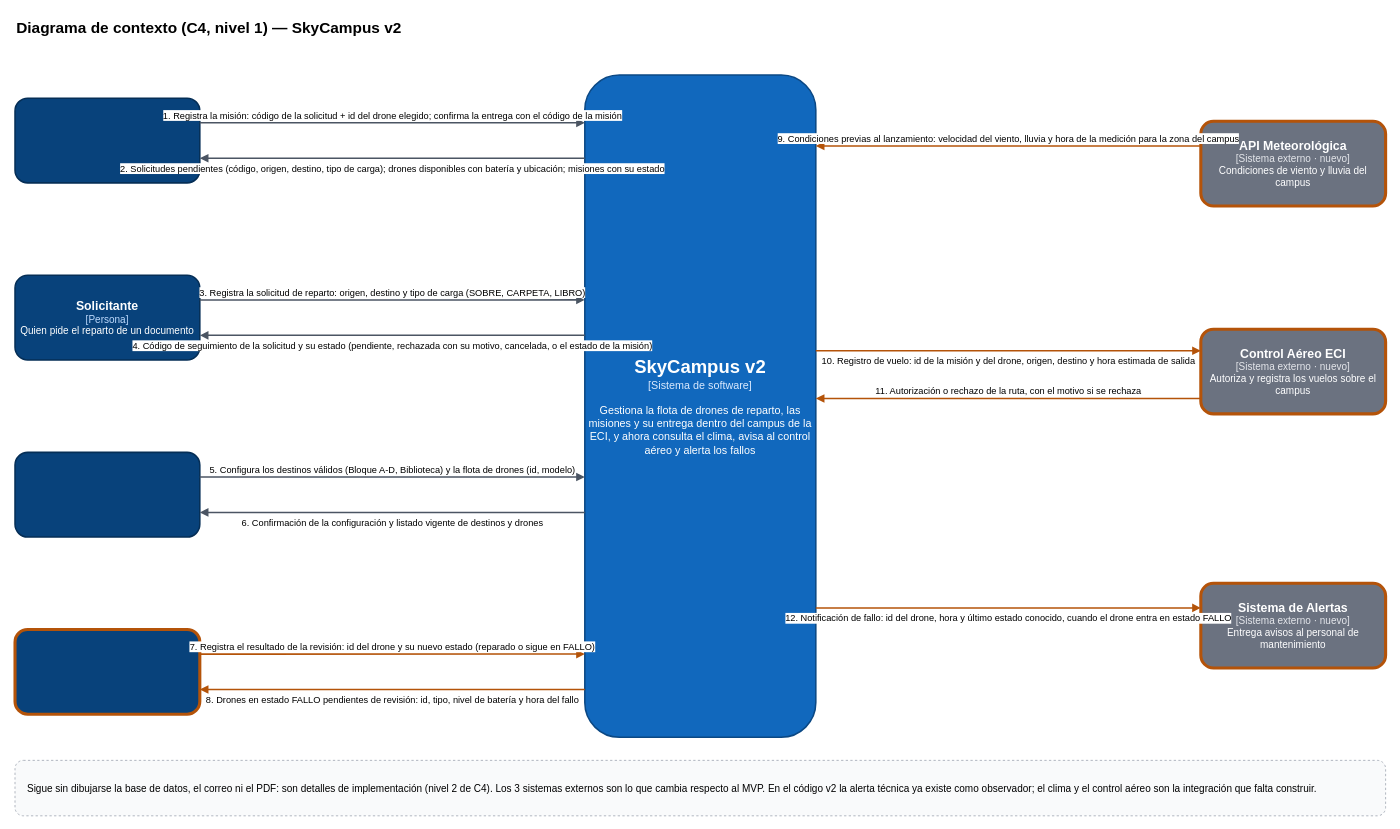
This 1400x829 diagram has some shape labels left out. Here are the shapes that lost their labels. From the top down, the centre of each, then its label:
At point 107,140: "Operador de drones [Persona] Asigna misiones y monitorea la flota".
At point 107,494: "Admin [Persona] Configura destinos y flota".
At point 107,671: "Técnico de mantenimiento [Persona · nuevo] Revisa y repara los drones que fallan".
